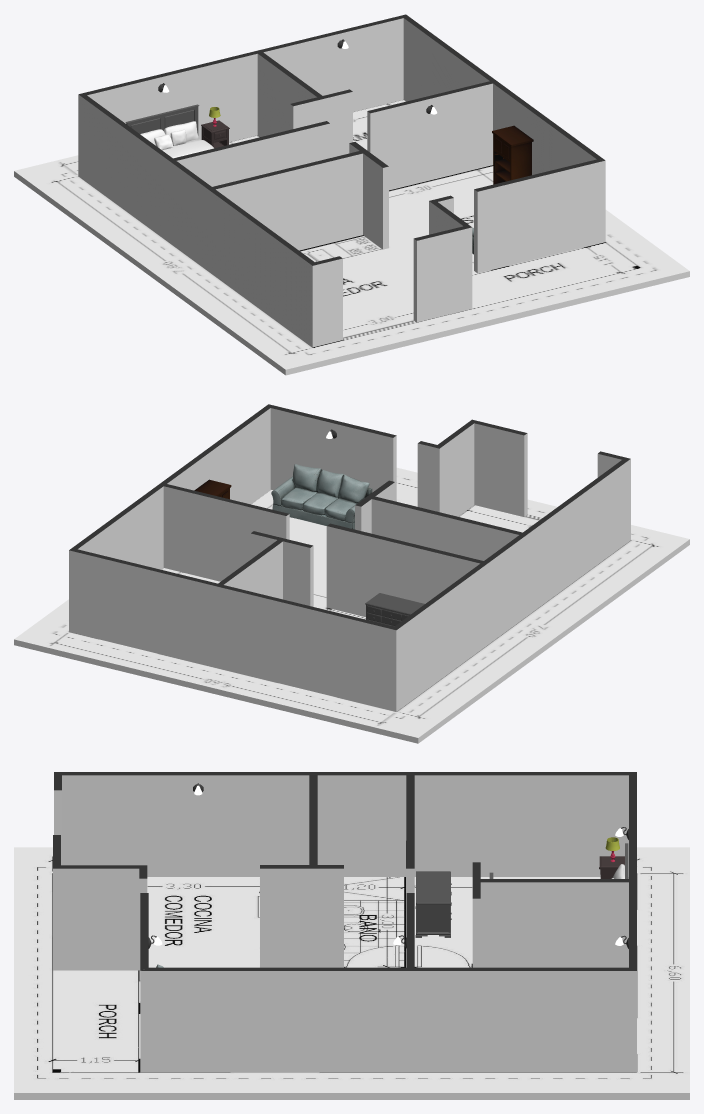
File: plano.glb
3 renders of one model, top to bottom at view 1: azimuth 30°, elevation 25°; view 2: azimuth 150°, elevation 25°; view 3: azimuth 270°, elevation 25°, orthographic. The views are drawn at different scales.
Parts seen in each view (by area): view 1: Piso, Pared_01, Pared_03_1, Pared_01_4, Pared_01_2, Pared_01_1, Pared_03, Pared_01_6, Pared_01_5, Pared_01_3, object 14, Sabanas_y_Colchon (+2 smaller); view 2: Piso, Pared_03_1, Pared_01, Pared_03, Pared_01_6, Pared_01_3, Pared_01_1, Pared_01_2, Pared_01_4, Pared_01_5, object 24, Bestidor; view 3: Piso, Pared_01, Pared_03, Pared_01_5, Pared_01_6, Pared_01_4, Bestidor, Pared_03_1, Pared_01_3, Pared_01_2, Pared_01_1.
Boxes of the visible parts, <box> form: Piso: <box>14,99,689,375</box>; Pared_01: <box>78,94,342,347</box>; Pared_03_1: <box>79,14,405,142</box>; Pared_01_4: <box>212,142,388,250</box>; Pared_01_2: <box>474,159,605,273</box>; Pared_01_1: <box>367,81,492,190</box>; Pared_03: <box>403,14,604,174</box>; Pared_01_6: <box>413,195,472,322</box>; Pared_01_5: <box>256,50,352,157</box>; Pared_01_3: <box>173,121,330,186</box>; object 14: <box>492,125,533,184</box>; Sabanas_y_Colchon: <box>140,121,213,158</box>; Piso: <box>14,467,689,743</box>; Pared_03_1: <box>69,549,396,711</box>; Pared_01: <box>394,451,630,711</box>; Pared_03: <box>69,404,270,569</box>; Pared_01_6: <box>417,419,527,516</box>; Pared_01_3: <box>326,523,483,616</box>; Pared_01_1: <box>163,484,289,581</box>; Pared_01_2: <box>268,404,396,501</box>; Pared_01_4: <box>355,480,522,560</box>; Pared_01_5: <box>215,531,313,668</box>; object 24: <box>271,464,372,529</box>; Bestidor: <box>365,593,424,626</box>; Piso: <box>14,847,689,1099</box>; Pared_01: <box>54,772,636,876</box>; Pared_03: <box>140,967,636,1072</box>; Pared_01_5: <box>472,862,636,967</box>; Pared_01_6: <box>53,835,147,980</box>; Pared_01_4: <box>260,775,343,967</box>; Bestidor: <box>415,871,451,937</box>; Pared_03_1: <box>629,772,636,970</box>; Pared_01_3: <box>406,775,414,967</box>; Pared_01_2: <box>140,893,148,1071</box>; Pared_01_1: <box>406,893,414,967</box>.
Bounding box in the file's own units: 14.83 × 3.06 × 17.26.
14 materials, 4 textured.
